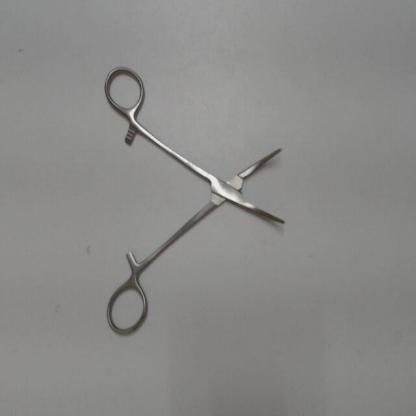Crile Artery Forceps: (102, 59, 296, 340)
